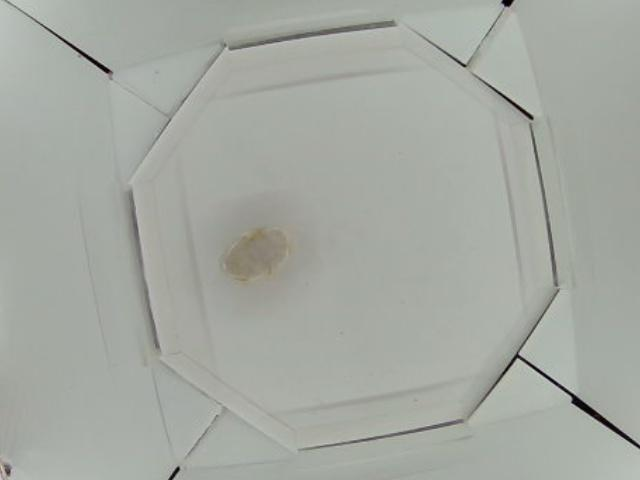Pebble: (221, 222, 288, 284)
